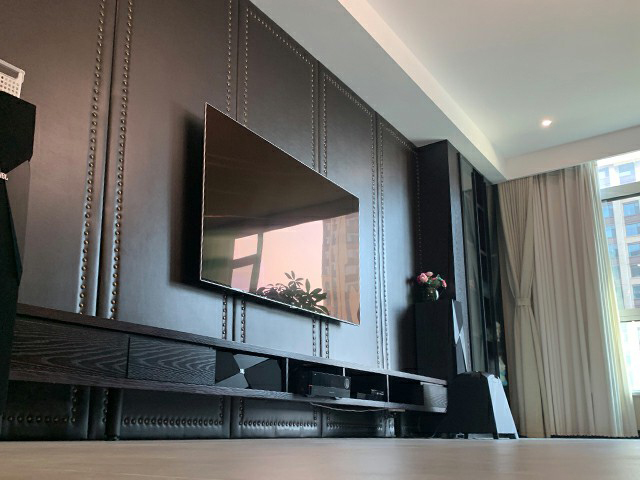cabinet: (1, 303, 448, 442)
curtain: (541, 160, 640, 440), (497, 176, 546, 440)
